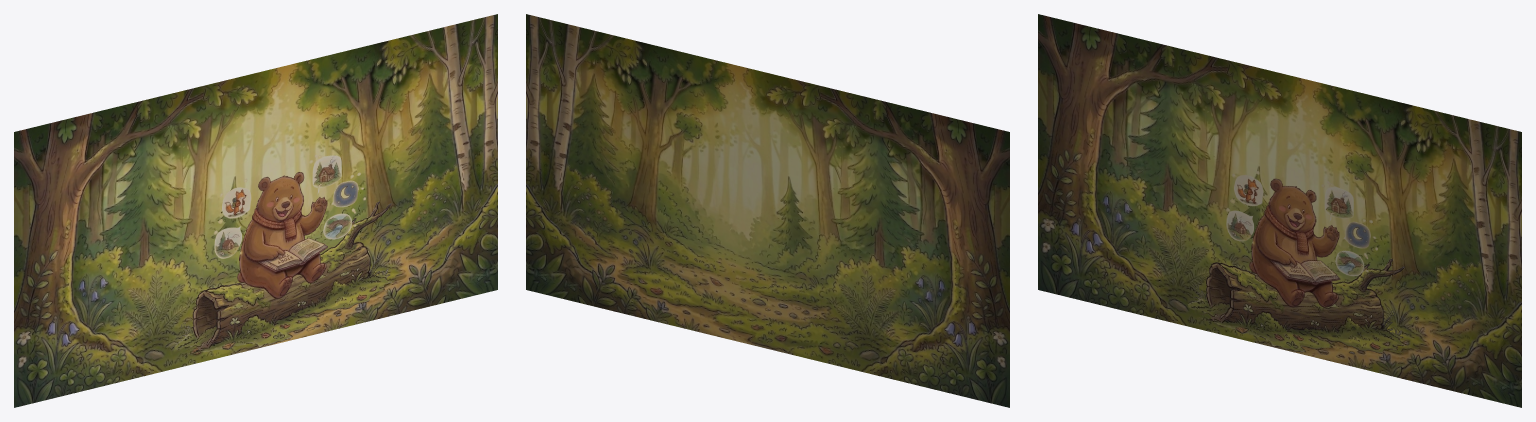
File: Wht-awetales-section-bg-3.glb
3 views of the same model, side by side, from view 1: azimuth 30°, elevation 25°; view 2: azimuth 150°, elevation 25°; view 3: azimuth 330°, elevation 25° (orthographic).
Parts seen in each view (by area): view 1: mesh_id31, mesh_id36, mesh_id45; view 2: mesh_id31; view 3: mesh_id31, mesh_id36, mesh_id45.
Boxes of the visible parts, left/top/right/bottom form: mesh_id31: left=14, top=14, right=497, bottom=407; mesh_id36: left=174, top=201, right=391, bottom=355; mesh_id45: left=214, top=154, right=365, bottom=298; mesh_id31: left=526, top=14, right=1009, bottom=407; mesh_id31: left=1038, top=14, right=1521, bottom=407; mesh_id36: left=1187, top=259, right=1405, bottom=357; mesh_id45: left=1226, top=171, right=1377, bottom=307.
Bounding box in the file's own units: 1.02 × 0.5727 × 0.0218.
3 materials, 3 textured.
